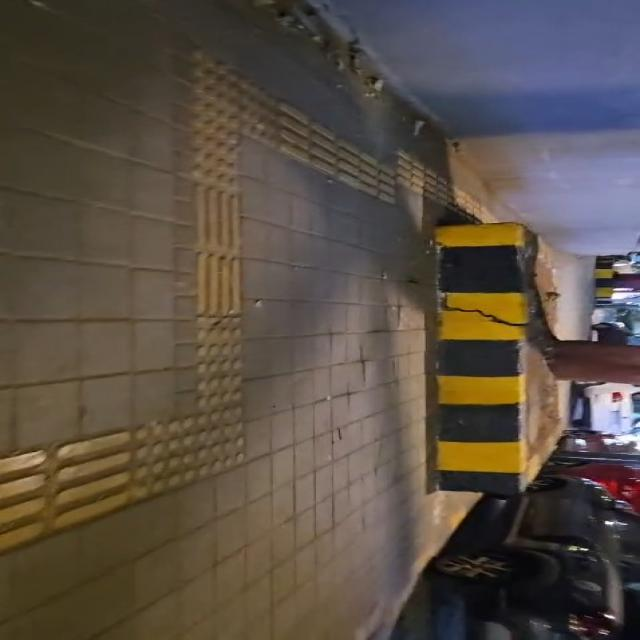obstacle: (444, 224, 524, 489)
